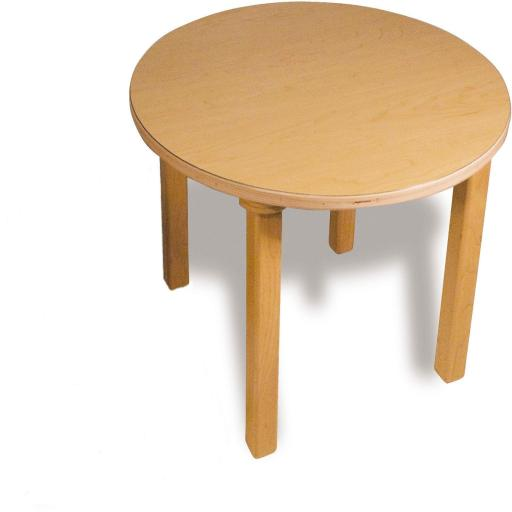table: (132, 1, 490, 439)
